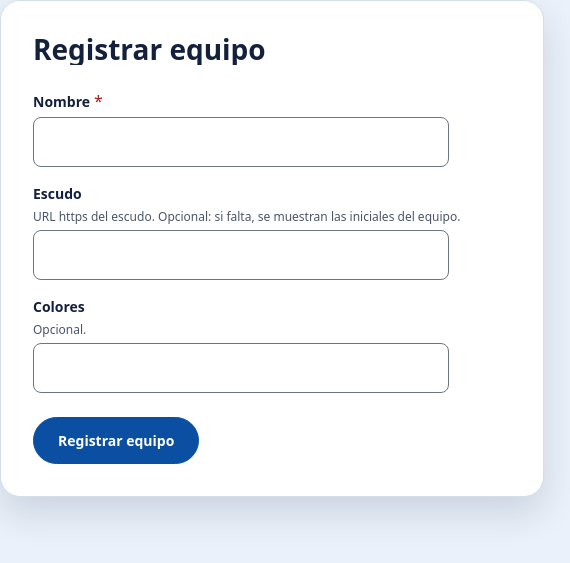
Scenario: CreateTeamForm › muestra el error.message del envelope al recibir 409
This screenshot has width=570, height=563.
Type "Ingeniería FC" into the field labelled "Nombre" at (241, 142), box [33,117,449,167]
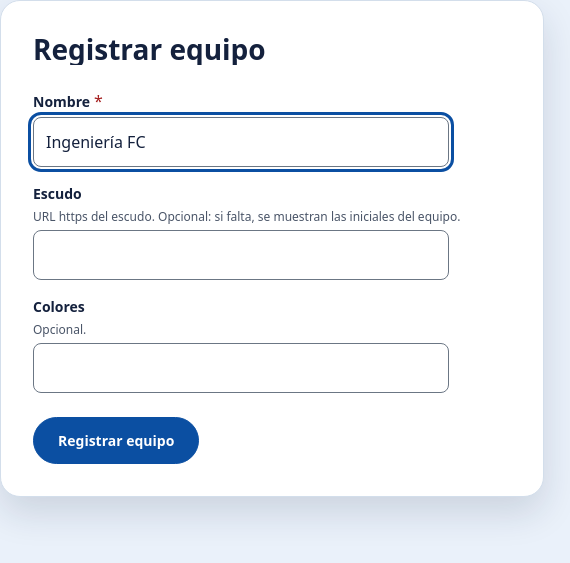
Click the button "Registrar equipo" at (116, 441), box [33,417,199,464]
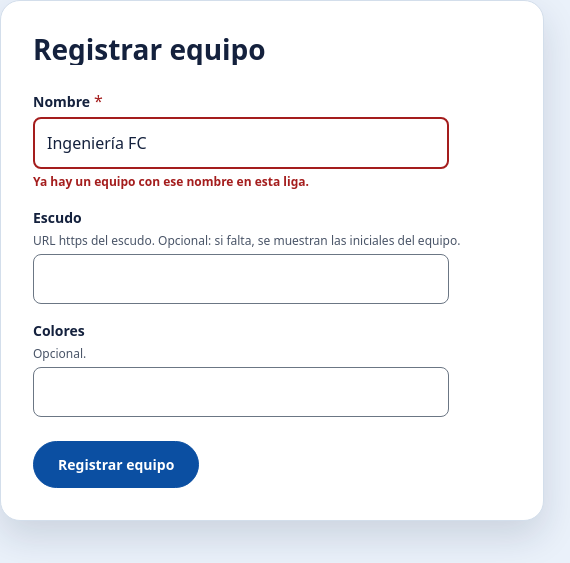
Now the message reads "Ya hay un equipo con ese nombre en esta liga.", box [33,173,309,190]
